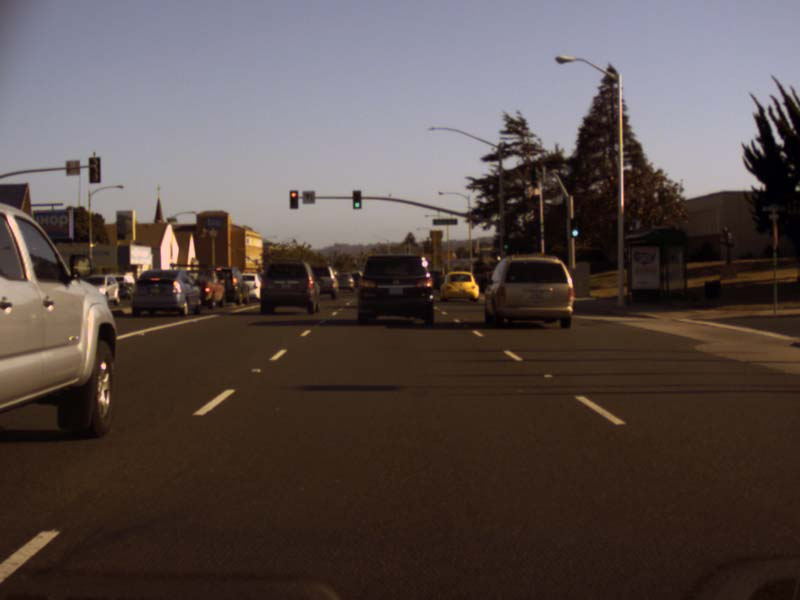Green: (352, 190, 360, 209), (570, 219, 578, 237), (501, 236, 508, 249)
Red: (289, 190, 297, 209)
